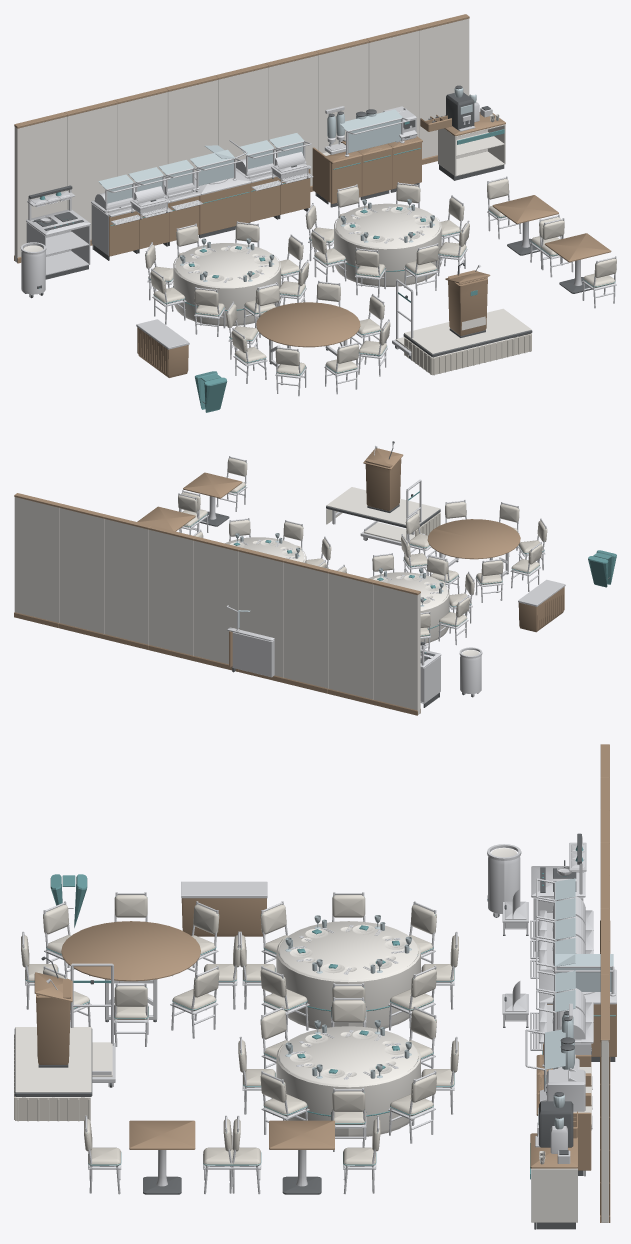
Rendered from hotel-and-resort-operations-breakfast-buffet-and-banqu-175b5ce3__25955.glb.
3 renders of one model, top to bottom at view 1: azimuth 30°, elevation 25°; view 2: azimuth 150°, elevation 25°; view 3: azimuth 270°, elevation 25°, orthographic. The views are drawn at different scales.
Parts seen in each view (by area): view 1: 043-banquet-round-table-dressed/0, 028-banquet-round-table-dressed/0, 000-partition-wall-module/0, 008-partition-wall-module/0, 001-partition-wall-module/0, 005-partition-wall-module/0, 007-partition-wall-module/0, 004-partition-wall-module/0, 002-partition-wall-module/0, 006-partition-wall-module/0, 058-banquet-round-table-10/2, 003-partition-wall-module/0 (+38 smaller); view 2: 000-partition-wall-module/0, 001-partition-wall-module/0, 002-partition-wall-module/0, 007-partition-wall-module/0, 008-partition-wall-module/0, 005-partition-wall-module/0, 006-partition-wall-module/0, 004-partition-wall-module/0, 003-partition-wall-module/0, 058-banquet-round-table-10/2, 075-lectern/0, 012-buffet-counter-corner/3 (+28 smaller); view 3: 028-banquet-round-table-dressed/0, 043-banquet-round-table-dressed/0, 058-banquet-round-table-10/2, 074-staging-riser/1, 075-lectern/0, 025-coffee-station/0, 076-lobby-planter/0, 069-restaurant-table-4-cover/2, 068-restaurant-table-4-cover/2, 074-staging-riser/3, 024-egg-station/0, 026-plate-dispenser/0 (+42 smaller).
Part boxes in pixels (bbox=[...]): 043-banquet-round-table-dressed/0: bbox=[334, 203, 441, 286]; 028-banquet-round-table-dressed/0: bbox=[173, 243, 280, 326]; 000-partition-wall-module/0: bbox=[14, 116, 67, 262]; 008-partition-wall-module/0: bbox=[419, 18, 469, 158]; 001-partition-wall-module/0: bbox=[67, 104, 117, 239]; 005-partition-wall-module/0: bbox=[268, 55, 318, 185]; 007-partition-wall-module/0: bbox=[368, 31, 418, 137]; 004-partition-wall-module/0: bbox=[218, 67, 268, 161]; 002-partition-wall-module/0: bbox=[117, 92, 167, 185]; 006-partition-wall-module/0: bbox=[318, 43, 368, 153]; 058-banquet-round-table-10/2: bbox=[256, 302, 360, 347]; 003-partition-wall-module/0: bbox=[168, 80, 217, 171]; 000-partition-wall-module/0: bbox=[373, 584, 420, 714]; 001-partition-wall-module/0: bbox=[328, 573, 373, 699]; 002-partition-wall-module/0: bbox=[283, 562, 328, 688]; 007-partition-wall-module/0: bbox=[59, 508, 104, 633]; 008-partition-wall-module/0: bbox=[14, 497, 59, 622]; 005-partition-wall-module/0: bbox=[149, 530, 193, 655]; 006-partition-wall-module/0: bbox=[104, 519, 148, 644]; 004-partition-wall-module/0: bbox=[194, 541, 238, 664]; 003-partition-wall-module/0: bbox=[238, 551, 283, 677]; 058-banquet-round-table-10/2: bbox=[427, 519, 520, 559]; 075-lectern/0: bbox=[363, 448, 403, 511]; 012-buffet-counter-corner/3: bbox=[226, 605, 274, 677]; 028-banquet-round-table-dressed/0: bbox=[276, 921, 420, 1029]; 043-banquet-round-table-dressed/0: bbox=[276, 1026, 420, 1136]; 058-banquet-round-table-10/2: bbox=[61, 921, 200, 981]; 074-staging-riser/1: bbox=[15, 1027, 91, 1092]; 075-lectern/0: bbox=[34, 972, 72, 1064]; 025-coffee-station/0: bbox=[531, 1151, 577, 1222]; 076-lobby-planter/0: bbox=[181, 898, 266, 936]; 069-restaurant-table-4-cover/2: bbox=[129, 1120, 195, 1149]; 068-restaurant-table-4-cover/2: bbox=[269, 1120, 334, 1149]; 074-staging-riser/3: bbox=[14, 1034, 90, 1121]; 024-egg-station/0: bbox=[531, 836, 586, 951]; 026-plate-dispenser/0: bbox=[487, 844, 521, 913].
Size of the model in its own units: 9.83 by 2.6 by 7.76.
